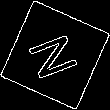N_E: (24, 27, 86, 83)
